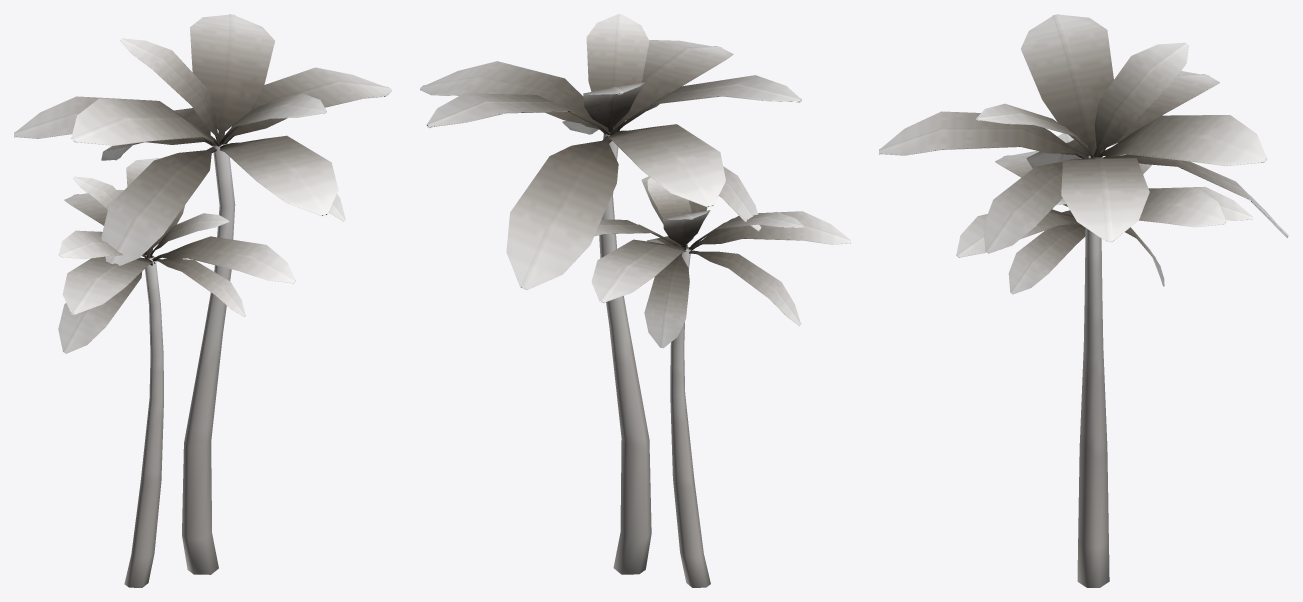
Rendered from M_Trees_Palm_01.fbx.
The picture shows the model from 3 angles, left to right: view 1: azimuth 30°, elevation 25°; view 2: azimuth 150°, elevation 25°; view 3: azimuth 270°, elevation 25°; orthographic projection. The views are drawn at different scales.
Parts seen in each view (by area): view 1: M_Root_PalmTree01, M_Root_PalmTree02; view 2: M_Root_PalmTree01, M_Root_PalmTree02; view 3: M_Root_PalmTree01, M_Root_PalmTree02.
Part boxes in pixels (left/top/right/bottom): M_Root_PalmTree01: left=14, top=14, right=391, bottom=574; M_Root_PalmTree02: left=58, top=158, right=295, bottom=587; M_Root_PalmTree01: left=420, top=14, right=801, bottom=574; M_Root_PalmTree02: left=591, top=176, right=850, bottom=587; M_Root_PalmTree01: left=879, top=14, right=1288, bottom=587; M_Root_PalmTree02: left=956, top=133, right=1252, bottom=294.
Size of the model in its own units: 451 by 592 by 422.
